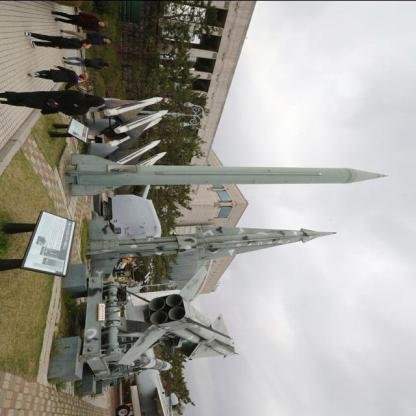MIL_TBM: (68, 158, 390, 190)
